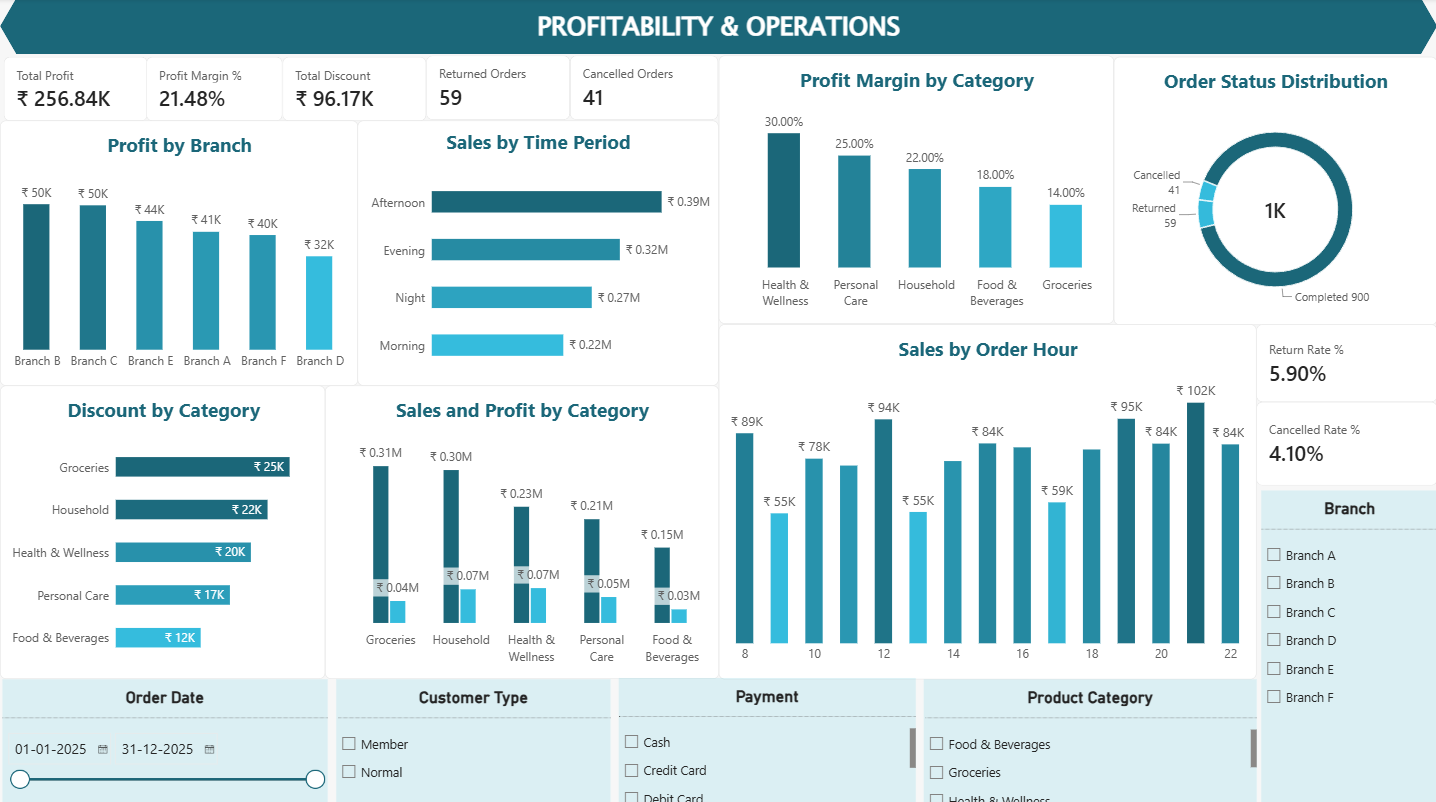

This screenshot's page, from the dashboard's own definition file:
{"tool":"powerbi","page":{"name":"Profitability & Operations","canvas":[1920,1080],"ordinal":2},"visuals":[{"type":"shape","box":[0,0,1920,75],"z":0},{"type":"cardVisual","fields":{"Data":["Supermarket_Data.Total Profit"]},"box":[4.8,78.5,192,86],"z":1000},{"type":"cardVisual","fields":{"Data":["Supermarket_Data.Profit Margin %"]},"box":[196,78,182,86],"z":2000},{"type":"cardVisual","fields":{"Data":["Supermarket_Data.Returned Orders"]},"box":[570,76,192,86],"z":3000},{"type":"cardVisual","fields":{"Data":["Supermarket_Data.Total Discount"]},"box":[378,78,192,86],"z":4000},{"type":"cardVisual","fields":{"Data":["Supermarket_Data.Cancelled Orders"]},"box":[762,76,198,86],"z":5000},{"type":"columnChart","title":"Profit by Branch","fields":{"Category":["Supermarket_Data.Branch"],"Y":["Supermarket_Data.Total Profit"]},"box":[0,164,478,354],"z":6000},{"type":"columnChart","title":"Profit Margin by Category","fields":{"Category":["Supermarket_Data.Product_Category"],"Y":["Supermarket_Data.Profit Margin %"]},"box":[960,76,528,358],"z":7000},{"type":"barChart","title":"Discount by Category","fields":{"Category":["Supermarket_Data.Product_Category"],"Y":["Supermarket_Data.Total Discount"]},"box":[0,518,434,392],"z":8000},{"type":"donutChart","title":"Order Status Distribution","fields":{"Category":["Supermarket_Data.Order_Status"],"Y":["CountNonNull(Supermarket_Data.Invoice_ID)"]},"box":[1488,78,432,358],"z":9000},{"type":"barChart","title":"Sales by Time Period","fields":{"Category":["Supermarket_Data.Time_Period"],"Y":["Supermarket_Data.Total Sales"]},"box":[478,164,482,354],"z":10000},{"type":"columnChart","title":"Sales by Order Hour","fields":{"Category":["Supermarket_Data.Order_Hour"],"Y":["Supermarket_Data.Total Sales"]},"box":[960,436,718,474],"z":11000},{"type":"lineClusteredColumnComboChart","title":"Sales and Profit by Category","fields":{"Category":["Supermarket_Data.Product_Category"],"Y":["Supermarket_Data.Total Sales","Supermarket_Data.Total Profit"]},"box":[434,518,526,392],"z":12000},{"type":"cardVisual","fields":{"Data":["Supermarket_Data.Return Rate %"]},"box":[1678,436,242,104],"z":13000},{"type":"cardVisual","fields":{"Data":["Supermarket_Data.Cancelled Rate %"]},"box":[1678,540,242,112],"z":14000},{"type":"slicer","title":"Order Date","fields":{"Values":["Supermarket_Data.Order_Date"]},"box":[4,910,434,168],"z":15000},{"type":"slicer","title":"Branch","fields":{"Values":["Supermarket_Data.Branch"]},"box":[1685.5,658.2,236.4,417.3],"z":16000},{"type":"slicer","title":"Product Category","fields":{"Values":["Supermarket_Data.Product_Category"]},"box":[1233.6,910,444.5,165.5],"z":17000},{"type":"slicer","title":"Customer Type","fields":{"Values":["Supermarket_Data.Customer_Type"]},"box":[448.3,910,366.7,168.3],"z":18000},{"type":"slicer","title":"Payment","fields":{"Values":["Supermarket_Data.Payment_Method"]},"box":[826.7,908.9,396.7,167.8],"z":19000}]}

Visuals, with their boxes in screenshot pixels (x1, y1, x2, y2), scaled from the page's 1920x1080 canvas onto the 1436x802 screenshot:
shape: <bbox>0, 0, 1435, 56</bbox>
cardVisual - Supermarket_Data.Total Profit: <bbox>4, 58, 147, 122</bbox>
cardVisual - Supermarket_Data.Profit Margin %: <bbox>147, 58, 283, 122</bbox>
cardVisual - Supermarket_Data.Returned Orders: <bbox>426, 56, 570, 120</bbox>
cardVisual - Supermarket_Data.Total Discount: <bbox>283, 58, 426, 122</bbox>
cardVisual - Supermarket_Data.Cancelled Orders: <bbox>570, 56, 718, 120</bbox>
"Profit by Branch" columnChart: <bbox>0, 122, 358, 385</bbox>
"Profit Margin by Category" columnChart: <bbox>718, 56, 1113, 322</bbox>
"Discount by Category" barChart: <bbox>0, 385, 325, 676</bbox>
"Order Status Distribution" donutChart: <bbox>1113, 58, 1435, 324</bbox>
"Sales by Time Period" barChart: <bbox>358, 122, 718, 385</bbox>
"Sales by Order Hour" columnChart: <bbox>718, 324, 1255, 676</bbox>
"Sales and Profit by Category" lineClusteredColumnComboChart: <bbox>325, 385, 718, 676</bbox>
cardVisual - Supermarket_Data.Return Rate %: <bbox>1255, 324, 1435, 401</bbox>
cardVisual - Supermarket_Data.Cancelled Rate %: <bbox>1255, 401, 1435, 484</bbox>
"Order Date" slicer: <bbox>3, 676, 328, 801</bbox>
"Branch" slicer: <bbox>1261, 489, 1435, 799</bbox>
"Product Category" slicer: <bbox>923, 676, 1255, 799</bbox>
"Customer Type" slicer: <bbox>335, 676, 610, 801</bbox>
"Payment" slicer: <bbox>618, 675, 915, 800</bbox>
